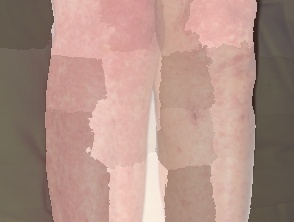SJS-TEN: (38, 0, 266, 222)
